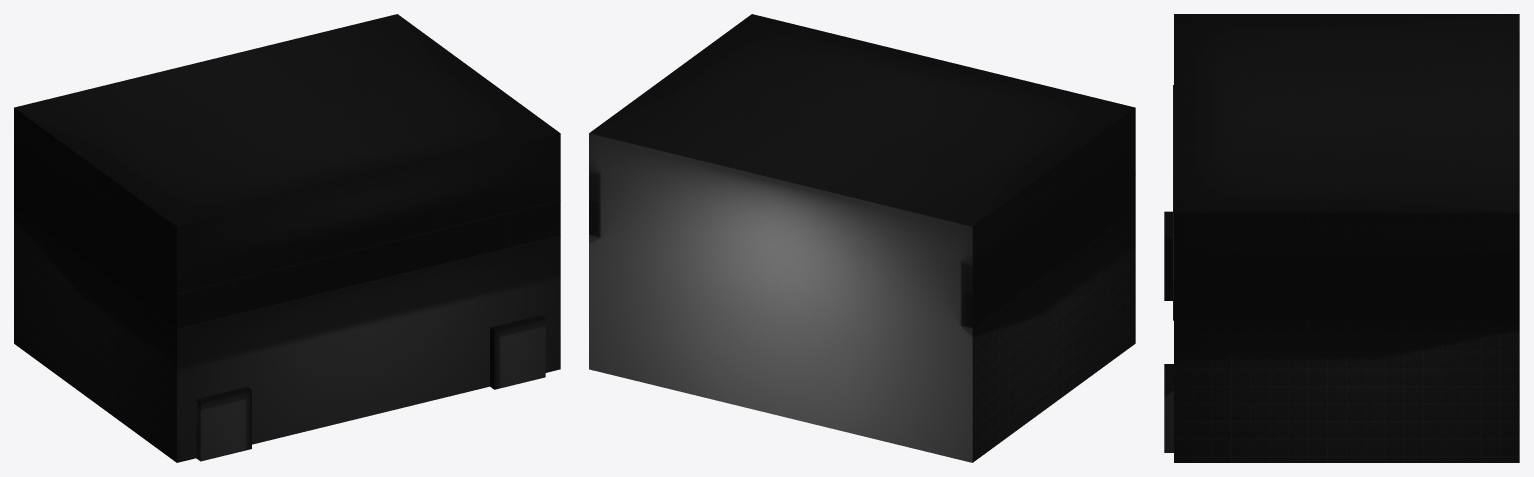
Rendered from deep_space_v3.obj.
The picture shows the model from 3 angles, left to right: view 1: azimuth 30°, elevation 25°; view 2: azimuth 150°, elevation 25°; view 3: azimuth 270°, elevation 25°; orthographic projection. The views are drawn at different scales.
Parts seen in each view (by area): view 1: Room.Back_Plane, Room.Ceiling_Plane.003, Room.Left_Plane.005, Gallery_Plane.005; view 2: Room.Front_Plane.007, Room.Ceiling_Plane.003, Room.Left_Plane.005; view 3: Room.Right_Plane.006, Room.Ceiling_Plane.003, Room.Back_Plane.
Boxes of the visible parts, x1,y1,x2,y2 form: Room.Back_Plane: (177,133,560,462); Room.Ceiling_Plane.003: (14,14,559,226); Room.Left_Plane.005: (14,108,176,462); Gallery_Plane.005: (16,176,560,328); Room.Front_Plane.007: (589,133,972,462); Room.Ceiling_Plane.003: (589,14,1135,226); Room.Left_Plane.005: (972,108,1135,462); Room.Right_Plane.006: (1174,212,1519,462); Room.Ceiling_Plane.003: (1174,14,1519,212); Room.Back_Plane: (1164,211,1173,452).
Bounding box in the file's own units: 14.97 × 8.8 × 11.31.
Materials: 7 (7 with a texture image).
